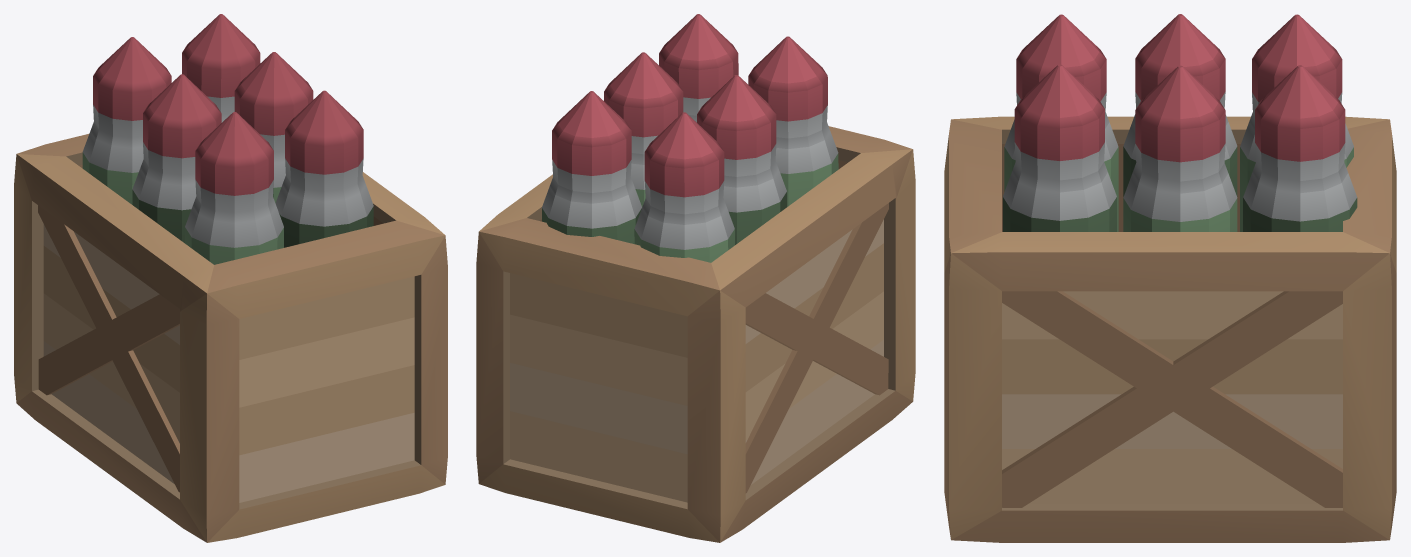
The model's file is Crate Final.fbx.
The picture shows the model from 3 angles, left to right: view 1: azimuth 30°, elevation 25°; view 2: azimuth 150°, elevation 25°; view 3: azimuth 270°, elevation 25°; orthographic projection. The views are drawn at different scales.
Parts seen in each view (by area): view 1: pCube6; view 2: pCube6; view 3: pCube6.
Boxes of the visible parts, box(x1,y1,x2,y2) form: pCube6: box(14, 14, 447, 542); pCube6: box(476, 14, 915, 542); pCube6: box(944, 14, 1396, 542).
Bounding box in the file's own units: 15.67 × 23.02 × 21.47.
